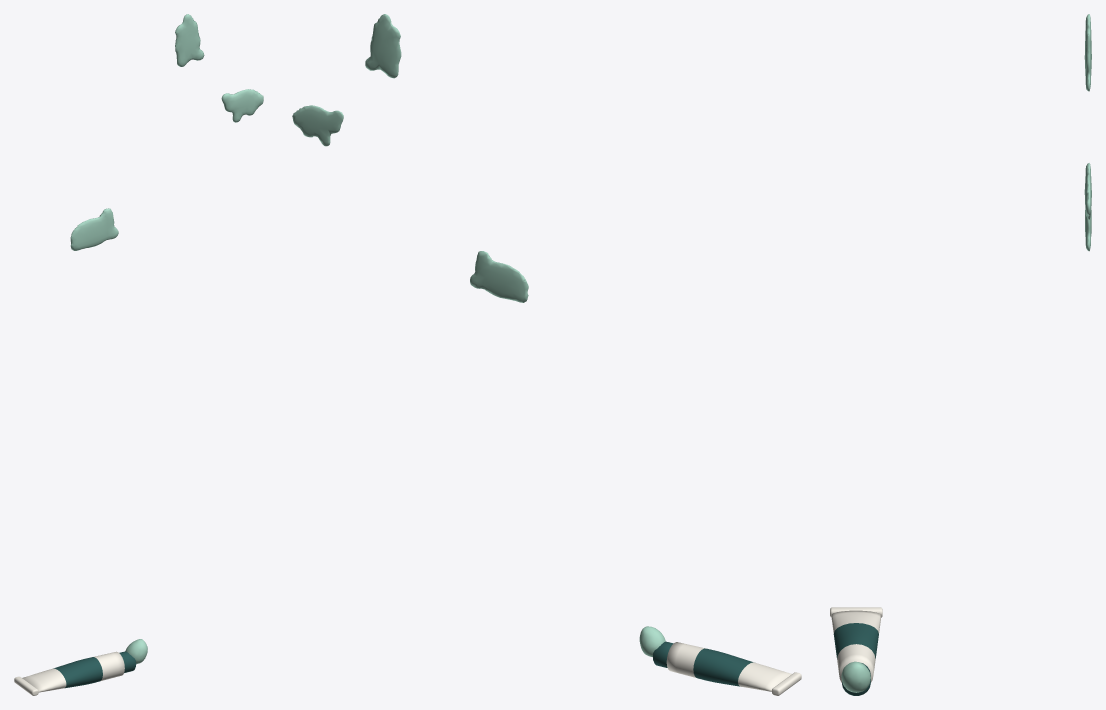
The model's file is toothpaste.glb.
The picture shows the model from 3 angles, left to right: view 1: azimuth 30°, elevation 25°; view 2: azimuth 150°, elevation 25°; view 3: azimuth 270°, elevation 25°; orthographic projection. The views are drawn at different scales.
Parts seen in each view (by area): view 1: TubeBody, SplatMesh2, SplatMesh3, SplatMesh1; view 2: TubeBody, SplatMesh2, SplatMesh3, SplatMesh1; view 3: TubeBody, GlobMesh, SplatMesh3.
Boxes of the visible parts, box(x1,y1,x2,y2) form: TubeBody: box(22, 651, 124, 692); SplatMesh2: box(70, 208, 118, 250); SplatMesh3: box(175, 14, 204, 66); SplatMesh1: box(221, 89, 263, 122); TubeBody: box(666, 642, 791, 691); SplatMesh2: box(470, 251, 528, 302); SplatMesh3: box(365, 14, 401, 78); SplatMesh1: box(292, 105, 343, 146); TubeBody: box(831, 610, 881, 682); GlobMesh: box(841, 661, 870, 692); SplatMesh3: box(1084, 14, 1091, 91).
Size of the model in its own units: 0.5736 by 0.9491 by 0.2889.
